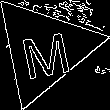M_N: (15, 19, 73, 78)
